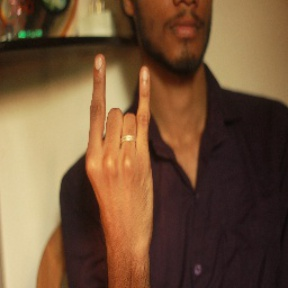V: (80, 50, 162, 227)
